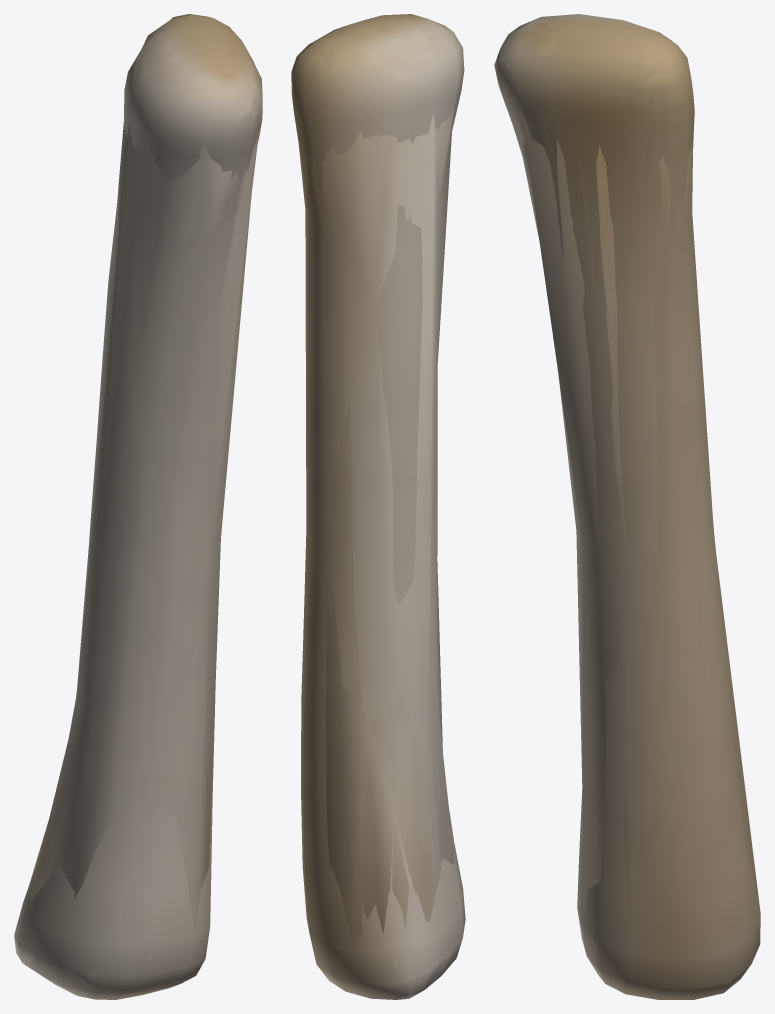
File: R metacarpi quartum.fbx
3 renders of one model, left to right at view 1: azimuth 30°, elevation 25°; view 2: azimuth 150°, elevation 25°; view 3: azimuth 270°, elevation 25°, orthographic. The views are drawn at different scales.
Parts seen in each view (by area): view 1: R metacarpi quartum low, R metacarpi quartum, R metacarpi quartum high; view 2: R metacarpi quartum low, R metacarpi quartum, R metacarpi quartum high; view 3: R metacarpi quartum, R metacarpi quartum low, R metacarpi quartum high.
Boxes of the visible parts, x1=… form: R metacarpi quartum low: x1=18, y1=16, x2=262, y2=999; R metacarpi quartum: x1=14, y1=14, x2=262, y2=999; R metacarpi quartum high: x1=17, y1=22, x2=257, y2=996; R metacarpi quartum low: x1=291, y1=15, x2=461, y2=989; R metacarpi quartum: x1=291, y1=14, x2=465, y2=999; R metacarpi quartum high: x1=292, y1=17, x2=459, y2=996; R metacarpi quartum: x1=494, y1=14, x2=760, y2=999; R metacarpi quartum low: x1=494, y1=17, x2=760, y2=993; R metacarpi quartum high: x1=505, y1=29, x2=757, y2=994.
Bounding box in the file's own units: 1.18 × 6.19 × 1.52.
